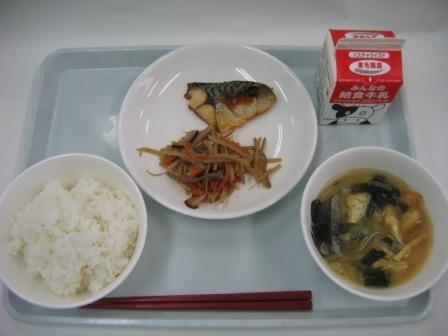Fish: (176, 65, 291, 135)
Milk: (305, 24, 411, 131)
Rice: (0, 156, 143, 305)
Soups: (298, 148, 447, 302)
pasta: (154, 123, 282, 206)
